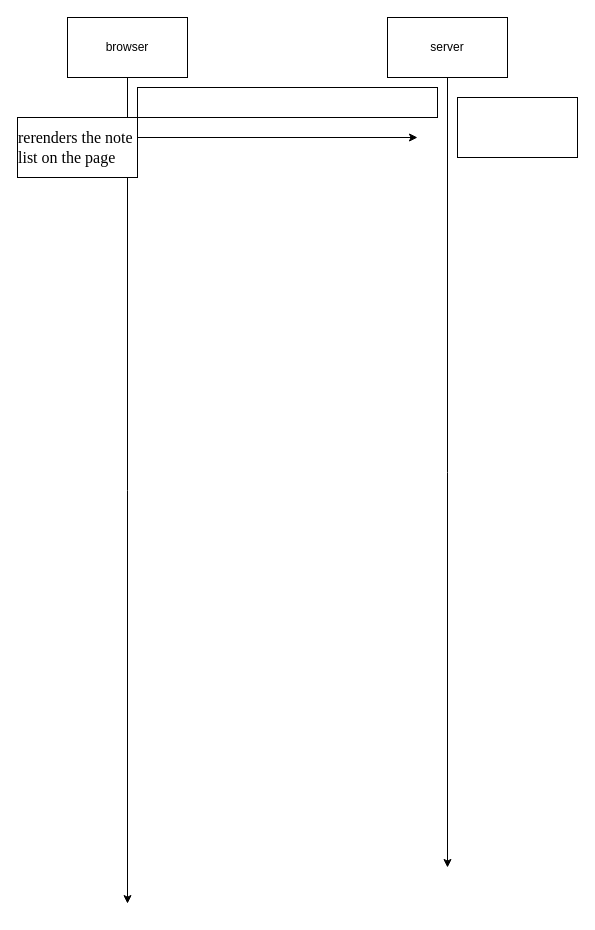
Some shapes in this 595 by 930 pixel diagram are drawn without their labels. The shapes that lost their labels are listed below. From the top down, each one's box as (x1, y1, x2, y2) in pixels, then its label:
(136, 86, 438, 118): post https://studies.cs.helsinki.fi/exampleapp/new_note_spa
(456, 96, 578, 158): Update their server
